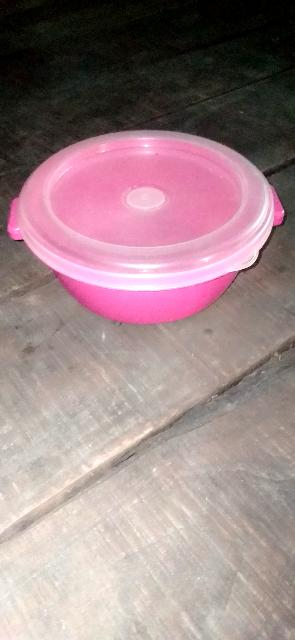hardplastic: (1, 106, 295, 354)
